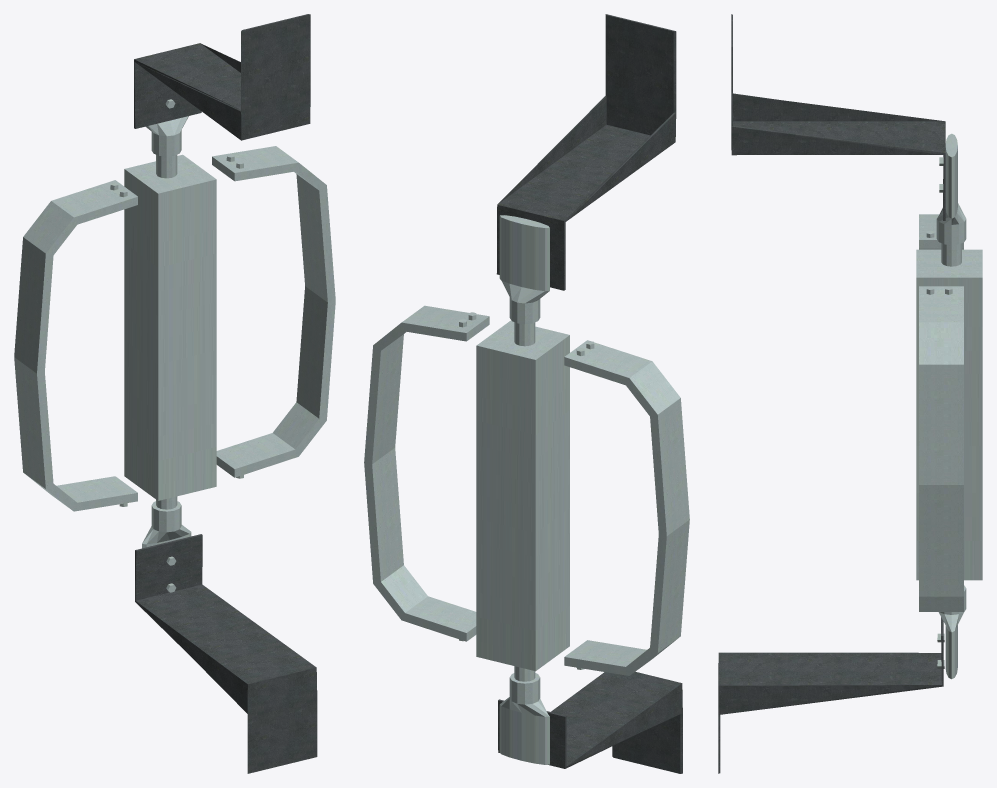
File: jxdzb001-geode.glb
3 views of the same model, side by side, from view 1: azimuth 30°, elevation 25°; view 2: azimuth 150°, elevation 25°; view 3: azimuth 270°, elevation 25° (orthographic). The views are drawn at different scales.
Parts seen in each view (by area): view 1: Node; view 2: Node; view 3: Node.
Part boxes in pixels (x1=…): Node: x1=14, y1=14, x2=335, y2=773; Node: x1=364, y1=14, x2=689, y2=773; Node: x1=718, y1=14, x2=982, y2=773.
Size of the model in its own units: 0.6137 by 1.45 by 0.4777.
Materials: 2 (2 with a texture image).
